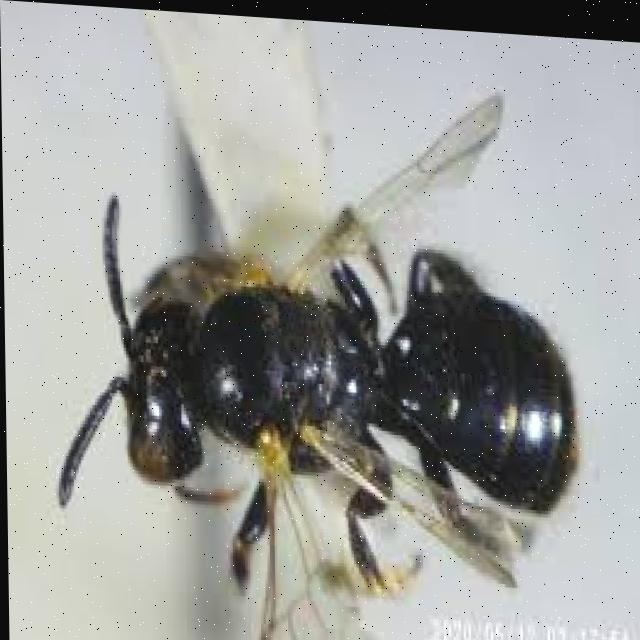Braunsapis: (28, 41, 593, 634)
